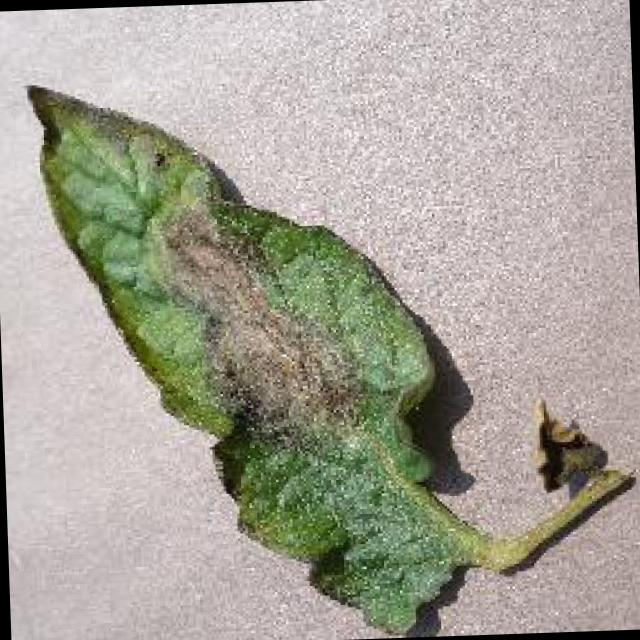Tomato_Late_Blight: (164, 199, 347, 466)
